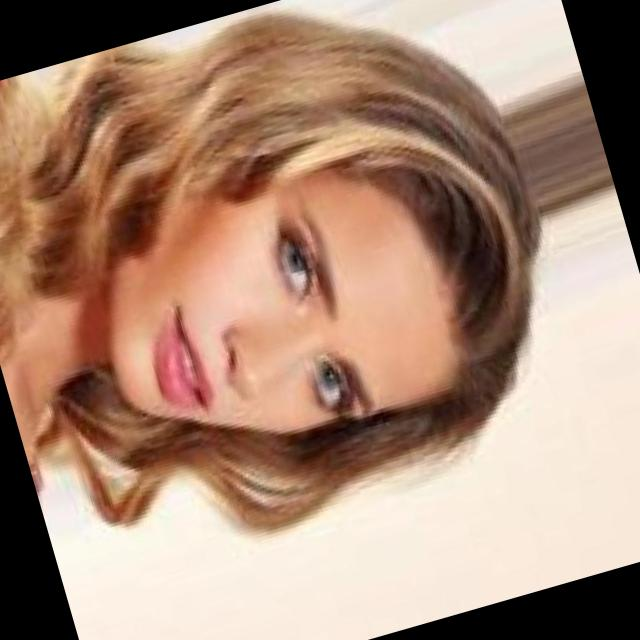bareface: (64, 138, 479, 488)
